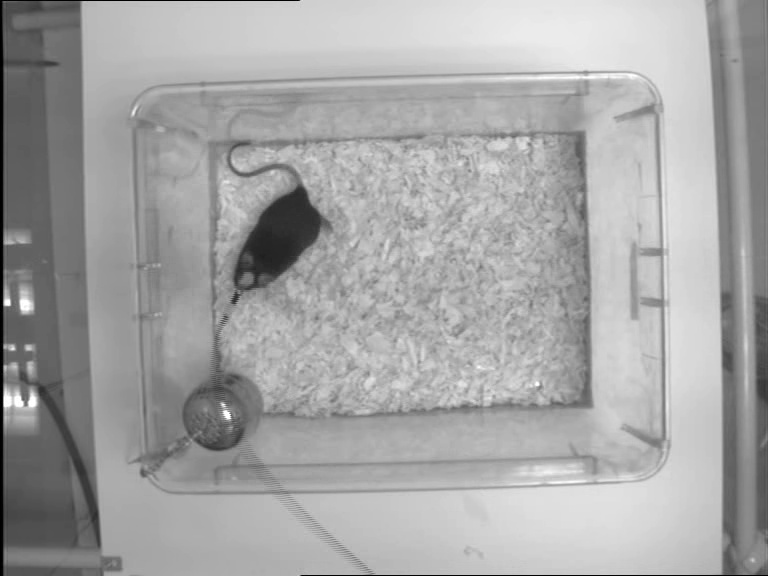mice: (223, 135, 335, 298)
